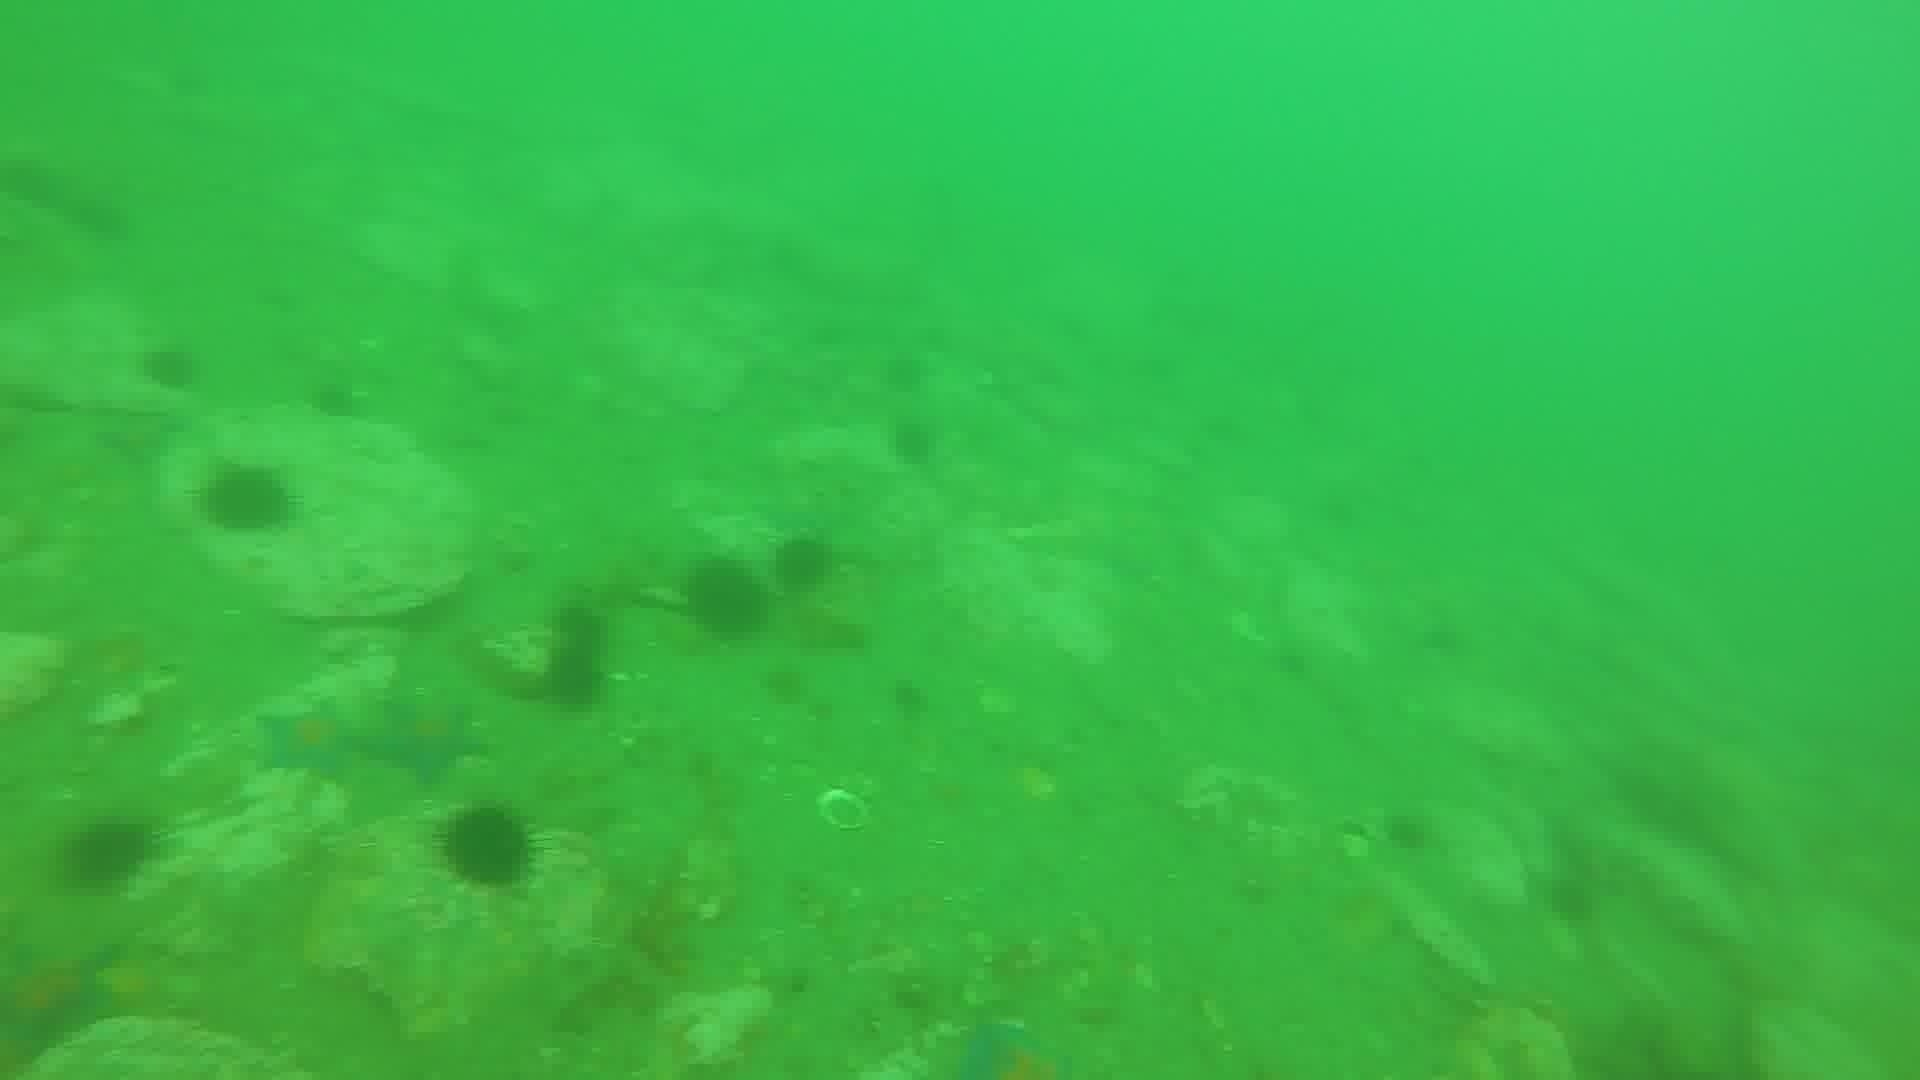echinus: (435, 802, 541, 894), (59, 812, 162, 893), (678, 555, 770, 642), (198, 463, 295, 539), (539, 640, 611, 715), (545, 584, 616, 654), (767, 531, 840, 596), (136, 340, 204, 396), (1542, 872, 1604, 931), (1378, 806, 1440, 858), (885, 415, 942, 469), (305, 375, 364, 425), (876, 348, 934, 398), (758, 662, 811, 709), (886, 675, 934, 724)
starfish: (3, 935, 127, 1072), (363, 671, 488, 766), (252, 698, 369, 787), (924, 1013, 1083, 1075), (90, 952, 187, 1027)
